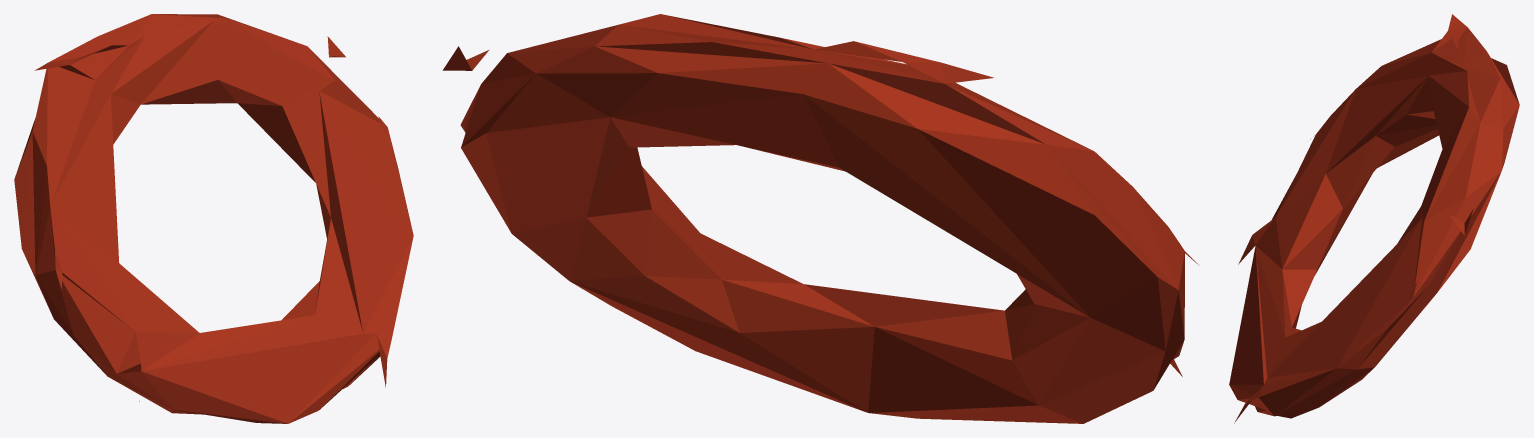
The model's file is cove-lifebuoy.lod1.glb.
3 renders of one model, left to right at view 1: azimuth 30°, elevation 25°; view 2: azimuth 150°, elevation 25°; view 3: azimuth 270°, elevation 25°, orthographic. The views are drawn at different scales.
Visible parts, largest first — view 1: Object_2; view 2: Object_2; view 3: Object_2.
Boxes of the visible parts, x1,y1,x2,y2 form: Object_2: (14,14,413,423); Object_2: (442,14,1199,423); Object_2: (1229,14,1519,423).
Bounding box in the file's own units: 0.742 × 0.573 × 0.486.
